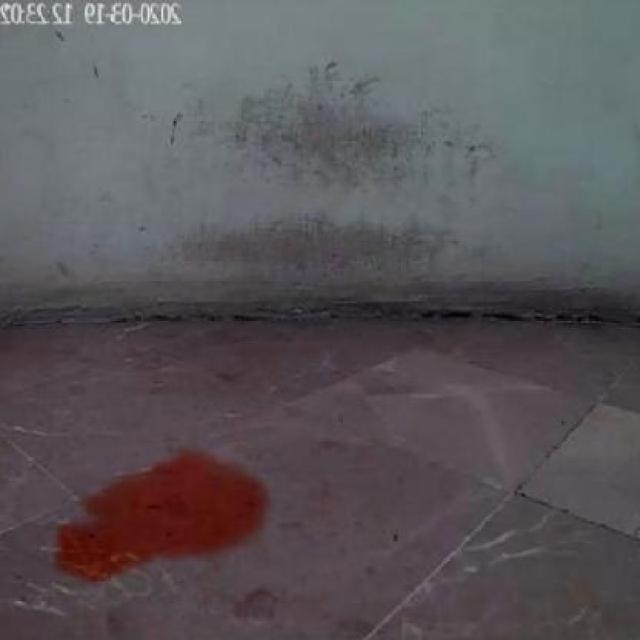spillage: (50, 450, 272, 585)
